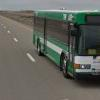Bus: (28, 5, 99, 88)
